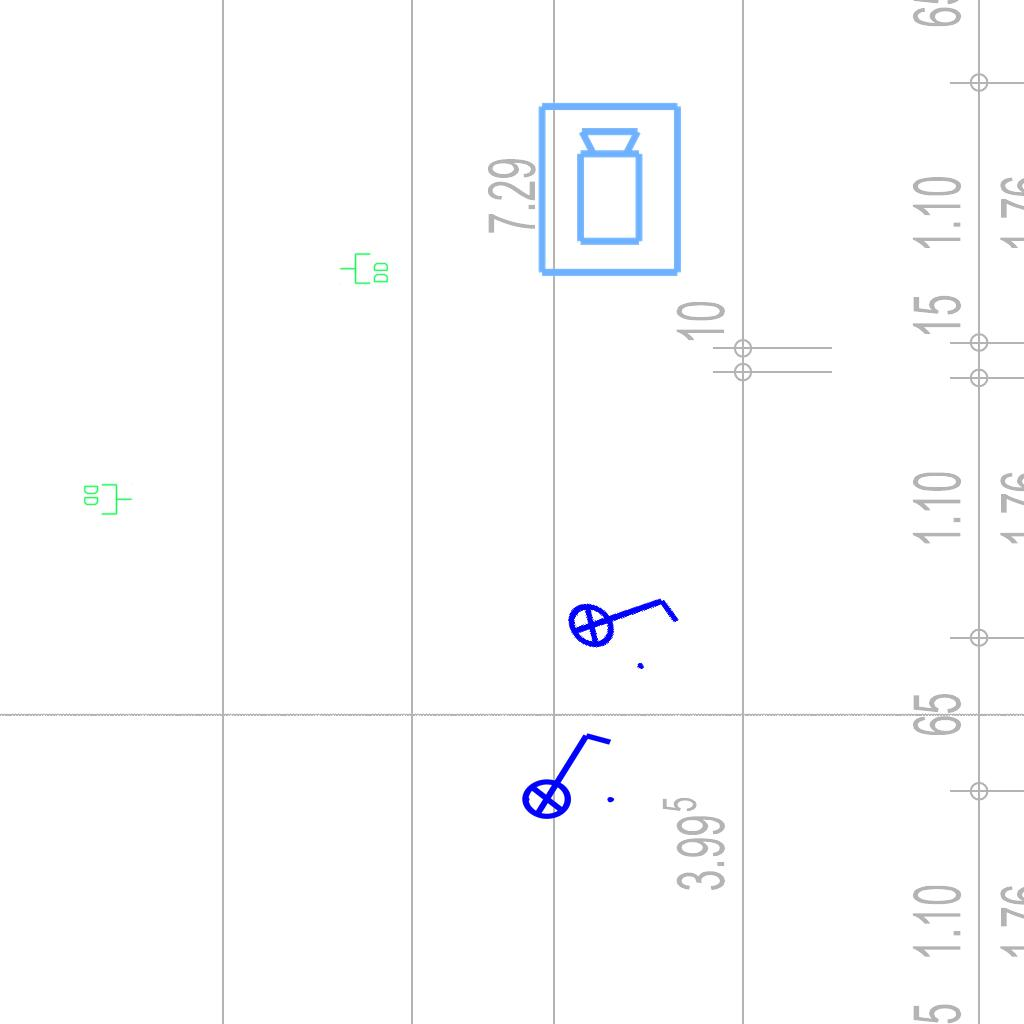Ausschalter_beleuchtet: (547, 543, 695, 689), (508, 725, 620, 821)
Datenanschluss_zweifach: (339, 252, 390, 286), (82, 482, 133, 516)
KFO_Kamera_mit_Festobjektiv: (534, 99, 688, 281)
